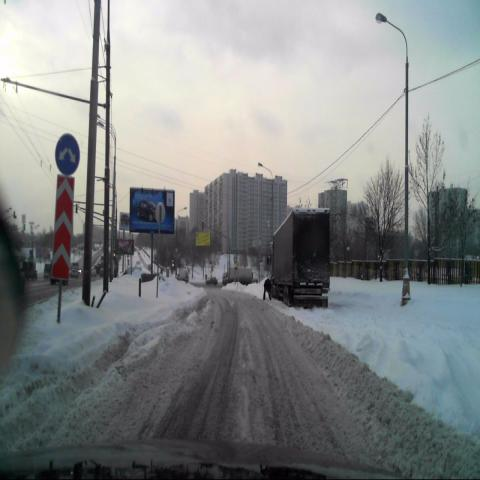4_2_3: (54, 133, 80, 175)
